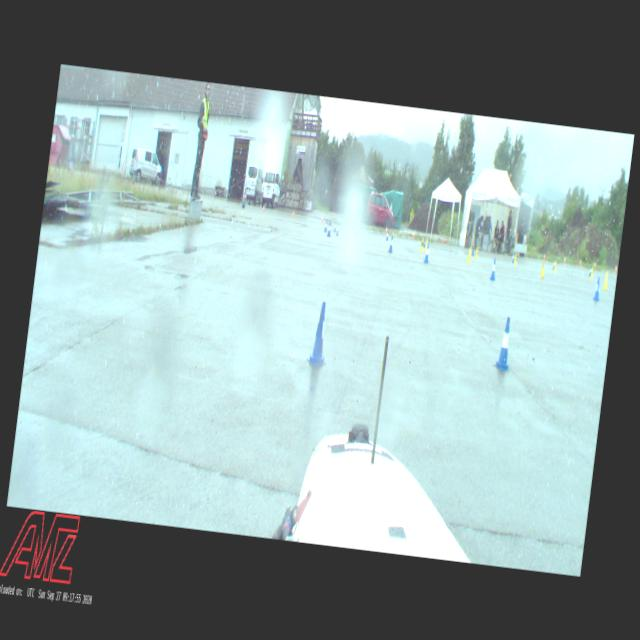blue_cone: (306, 300, 334, 366), (492, 315, 516, 371), (592, 276, 602, 302), (489, 258, 498, 281), (424, 243, 431, 263), (388, 235, 394, 252), (326, 221, 332, 237), (334, 222, 340, 236), (323, 219, 328, 232), (422, 235, 427, 248), (332, 221, 337, 232), (385, 230, 389, 241), (470, 245, 474, 256), (588, 265, 591, 277), (552, 258, 555, 270), (512, 251, 514, 262)
orange_cone: (442, 235, 446, 245), (410, 229, 414, 239), (614, 263, 618, 273), (542, 252, 546, 261), (262, 203, 265, 212), (579, 258, 582, 267), (291, 210, 294, 218), (321, 214, 324, 222), (563, 256, 566, 264)
yellow_cone: (602, 270, 609, 290), (540, 262, 546, 278), (466, 246, 472, 262), (419, 238, 424, 252), (424, 237, 428, 250), (513, 253, 517, 265), (474, 246, 478, 258), (590, 267, 594, 278), (554, 260, 556, 272)
